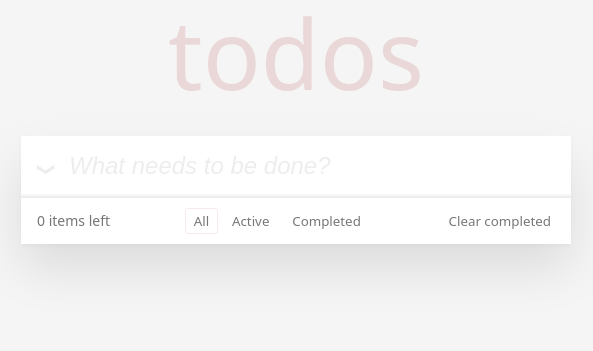
TodoApp Integration › adds and completes todo
Type "New todo item" into the field with placeholder "What needs to be done?" at point(296, 166), box [21, 136, 571, 196]
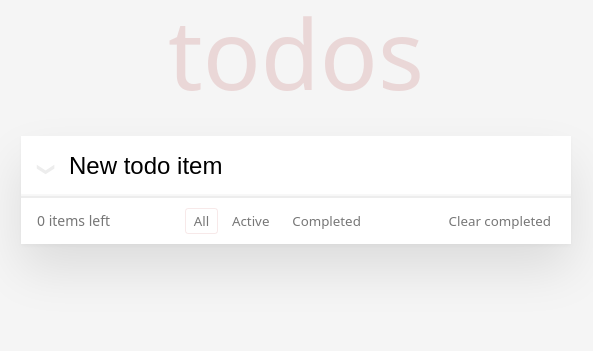
Submit the form from the field with placeholder "What needs to be done?", box [21, 136, 571, 196]
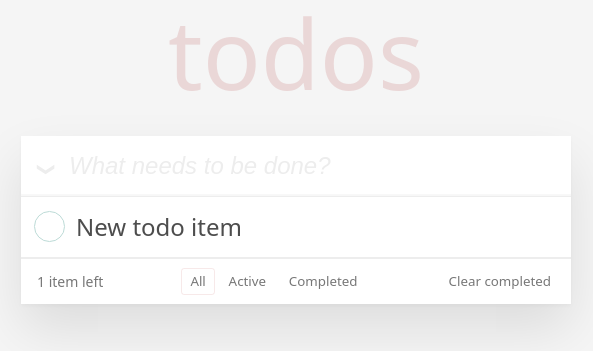
Expected: the text "New todo item" is shown, [76, 210, 242, 243]
Expected: the text "1 item left" is shown, [37, 272, 103, 291]
Click the checkbox at point(48, 227), box [34, 211, 63, 243]
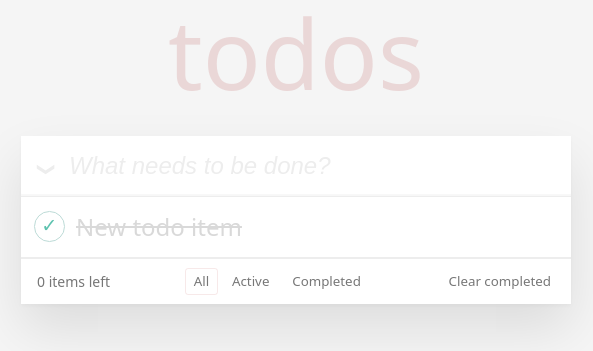
Expected: the text "0 items left" is shown, [37, 272, 110, 291]
